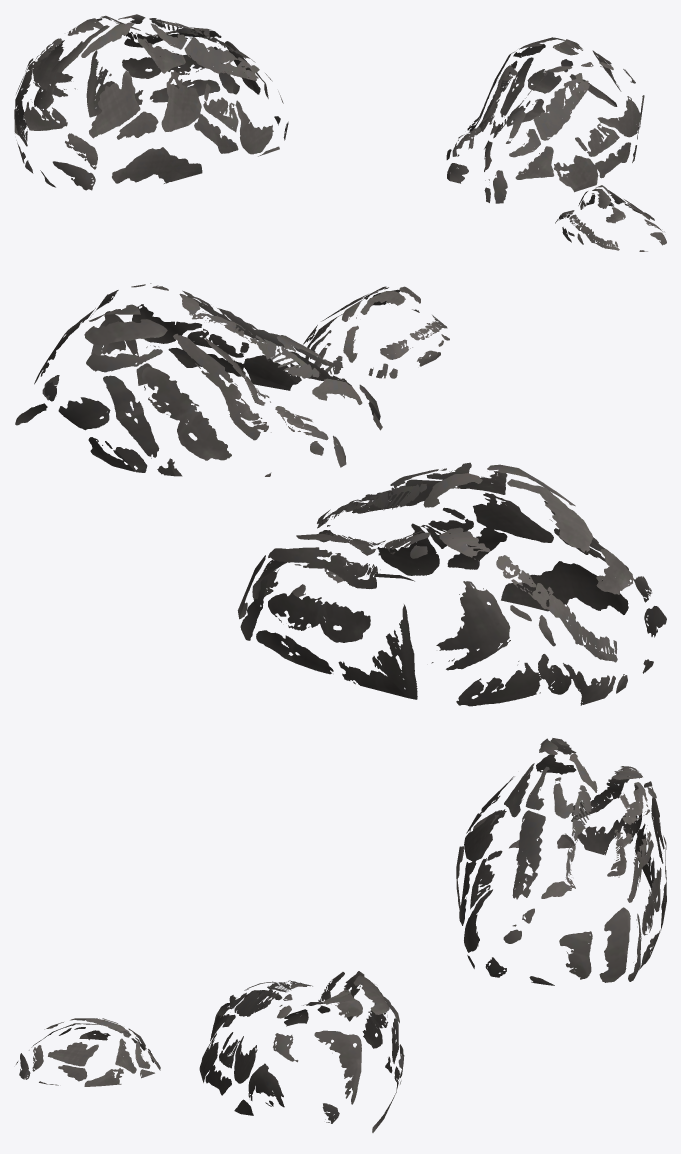
The model's file is SM_ENV_LKNVLD_RockMiddle_E.FBX.
3 views of the same model, one above another, from view 1: azimuth 30°, elevation 25°; view 2: azimuth 150°, elevation 25°; view 3: azimuth 270°, elevation 25° (orthographic). The views are drawn at different scales.
Visible parts, largest first — view 1: SM_ENV_LKNVLD_RockMiddle_E; view 2: SM_ENV_LKNVLD_RockMiddle_E; view 3: SM_ENV_LKNVLD_RockMiddle_E.
Boxes of the visible parts, box(x1,y1,x2,y2) form: SM_ENV_LKNVLD_RockMiddle_E: box(14, 14, 666, 251); SM_ENV_LKNVLD_RockMiddle_E: box(15, 283, 666, 706); SM_ENV_LKNVLD_RockMiddle_E: box(16, 738, 666, 1132).
Bounding box in the file's own units: 782 × 188 × 728.
